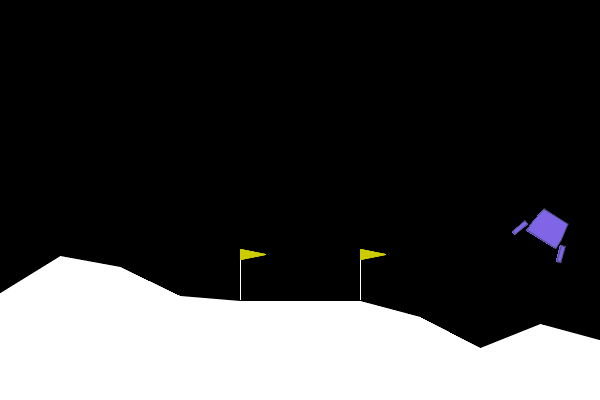lander: (510, 199, 582, 265)
